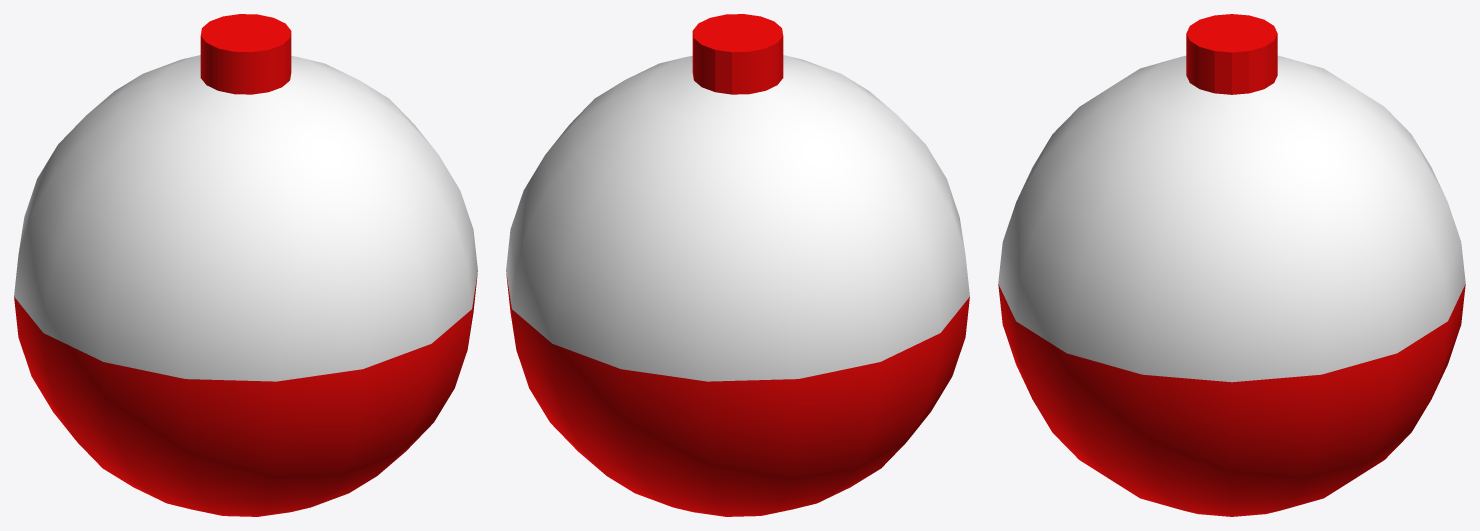
Rendered from fishing_bobber 1.glb.
3 renders of one model, left to right at view 1: azimuth 30°, elevation 25°; view 2: azimuth 150°, elevation 25°; view 3: azimuth 270°, elevation 25°, orthographic.
Visible parts, largest first — view 1: Bobber_0; view 2: Bobber_0; view 3: Bobber_0.
Boxes of the visible parts, left/top/right/bottom form: Bobber_0: left=14, top=14, right=477, bottom=516; Bobber_0: left=506, top=14, right=969, bottom=516; Bobber_0: left=998, top=14, right=1465, bottom=516.
Size of the model in its own units: 2 by 2.18 by 2.
Materials: 1 (1 with a texture image).
